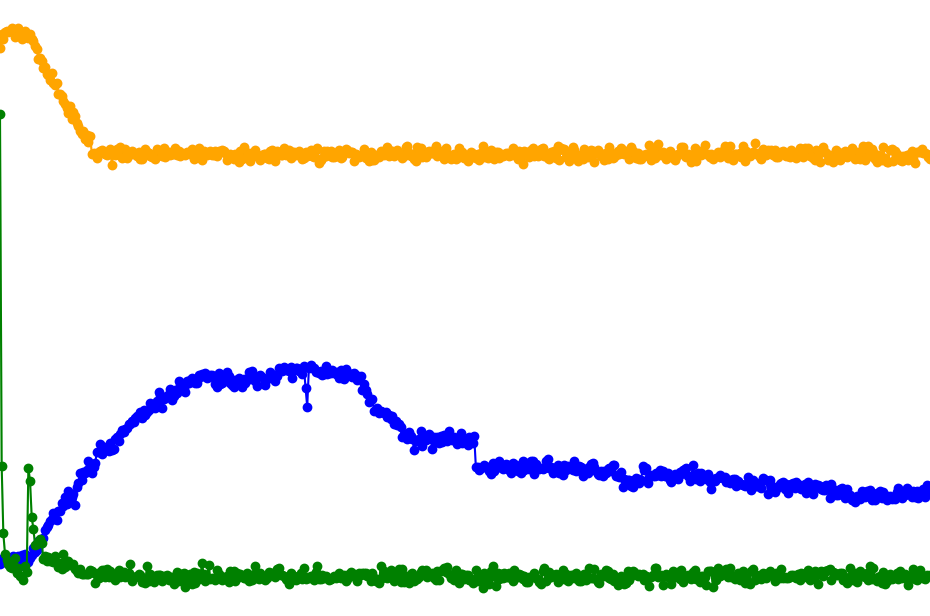CO2 Problem: (120, 0, 930, 616), (641, 0, 930, 616), (40, 0, 120, 616)
Condensation (CO2): (120, 0, 360, 616), (40, 0, 120, 616)
Low CO2: (280, 0, 930, 616), (320, 0, 641, 616), (641, 0, 930, 616), (120, 0, 360, 616), (40, 0, 120, 616)
Normal: (40, 0, 930, 616), (120, 0, 930, 616), (280, 0, 930, 616), (40, 0, 520, 616), (280, 0, 641, 616), (40, 0, 360, 616), (641, 0, 930, 616), (120, 0, 280, 616), (0, 0, 120, 616), (40, 0, 120, 616), (280, 0, 320, 616)
O2 Problem: (120, 0, 930, 616), (280, 0, 641, 616), (641, 0, 930, 616), (120, 0, 280, 616), (80, 0, 120, 616)
